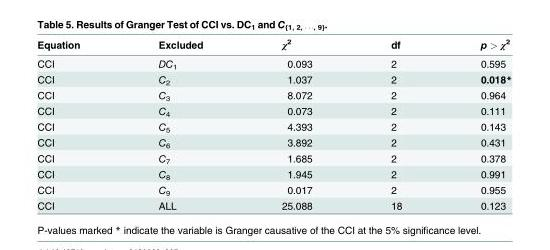table: (36, 36, 511, 210)
table column: (118, 36, 241, 210), (241, 36, 350, 210), (350, 36, 440, 210), (36, 36, 118, 210), (440, 36, 511, 210)
table column header: (36, 36, 511, 53)
table row: (36, 53, 511, 71), (36, 36, 511, 53), (36, 71, 511, 87), (36, 102, 511, 118), (36, 118, 511, 134), (36, 134, 511, 150), (36, 150, 511, 166), (36, 181, 511, 197), (36, 87, 511, 102), (36, 166, 511, 181), (36, 197, 511, 210)
